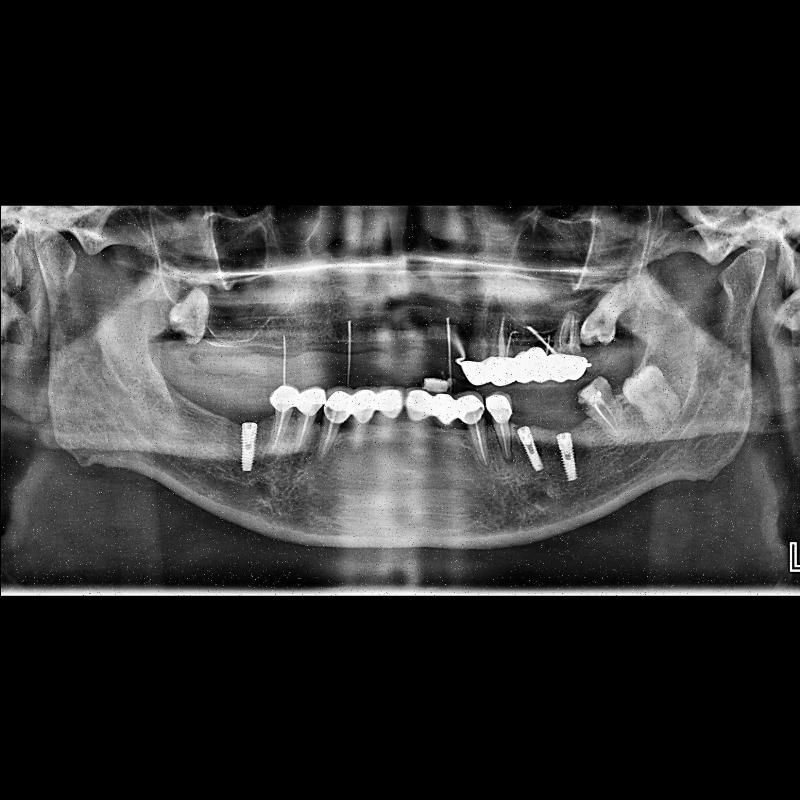osstem: (516, 422, 545, 474), (556, 430, 580, 480), (236, 421, 260, 469)
